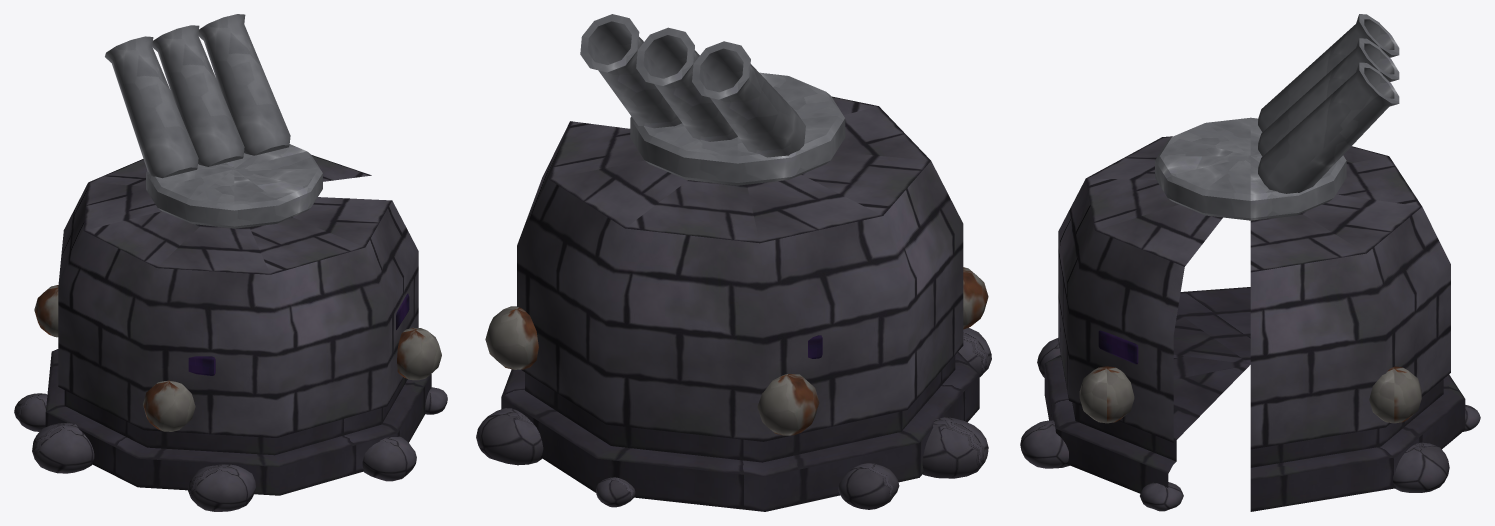
The model's file is minelayer.glb.
The picture shows the model from 3 angles, left to right: view 1: azimuth 30°, elevation 25°; view 2: azimuth 150°, elevation 25°; view 3: azimuth 270°, elevation 25°; orthographic projection. The views are drawn at different scales.
Visible parts, largest first — view 1: Base, Turret; view 2: Base, Turret; view 3: Base, Turret.
Part boxes in pixels (left/top/right/bottom): Base: left=14, top=155, right=447, bottom=511; Turret: left=105, top=14, right=322, bottom=228; Base: left=476, top=96, right=991, bottom=511; Turret: left=580, top=14, right=845, bottom=185; Base: left=1020, top=136, right=1480, bottom=511; Turret: left=1155, top=14, right=1399, bottom=220.
Size of the model in its own units: 0.9744 by 0.9078 by 0.9617.
6 materials, 6 textured.
